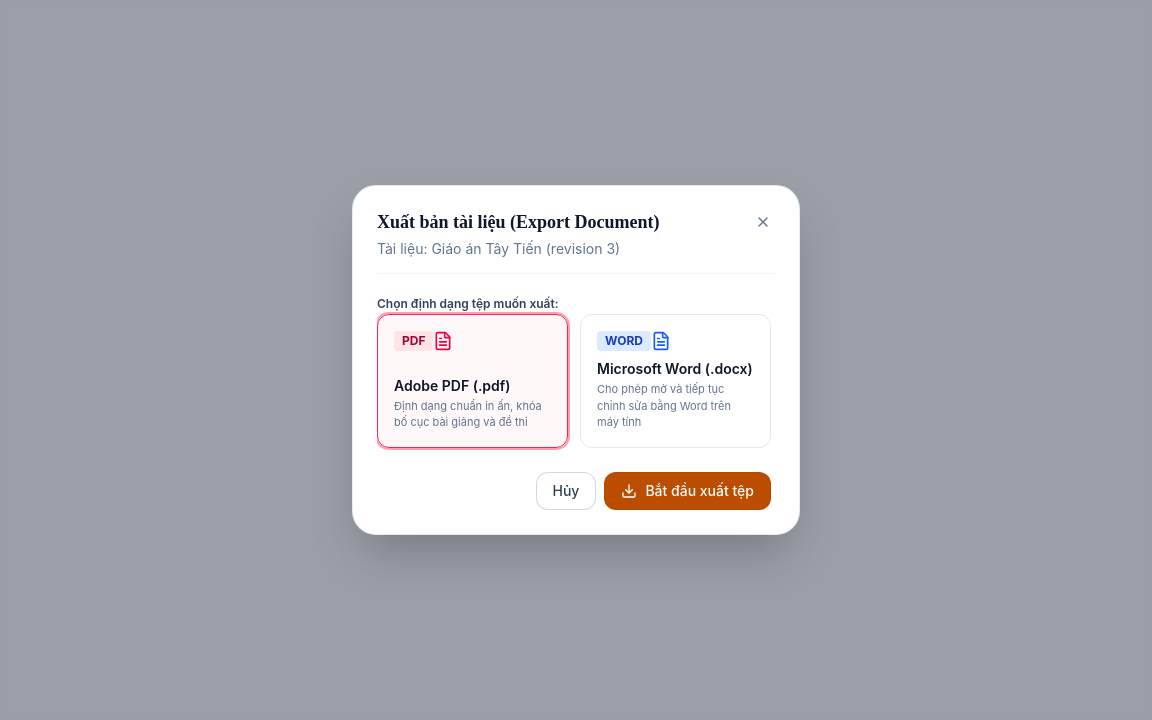
Test: ExportModal › handles asynchronous export with polling until COMPLETED
Note: Select DOCX
Step 1. Click the text "Microsoft Word (.docx)" → (676, 369), box 597,359 -> 754,379
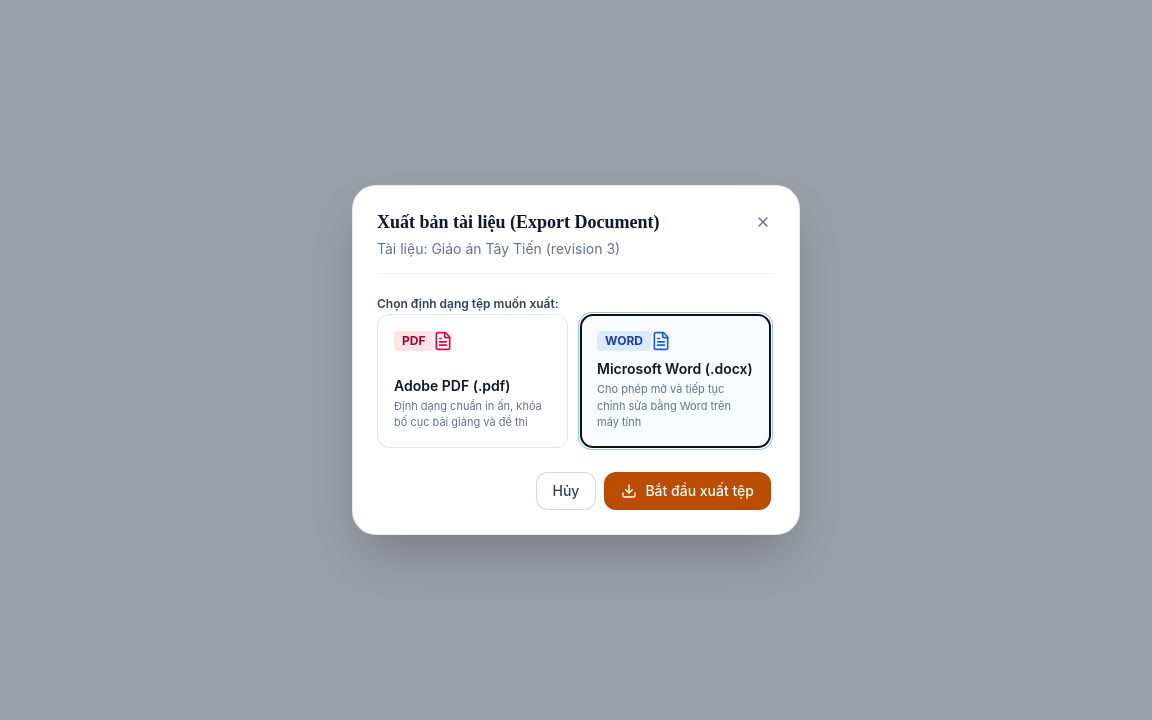
Step 2. Click the button "Bắt đầu xuất tệp" → (688, 491), box 604,472 -> 771,510
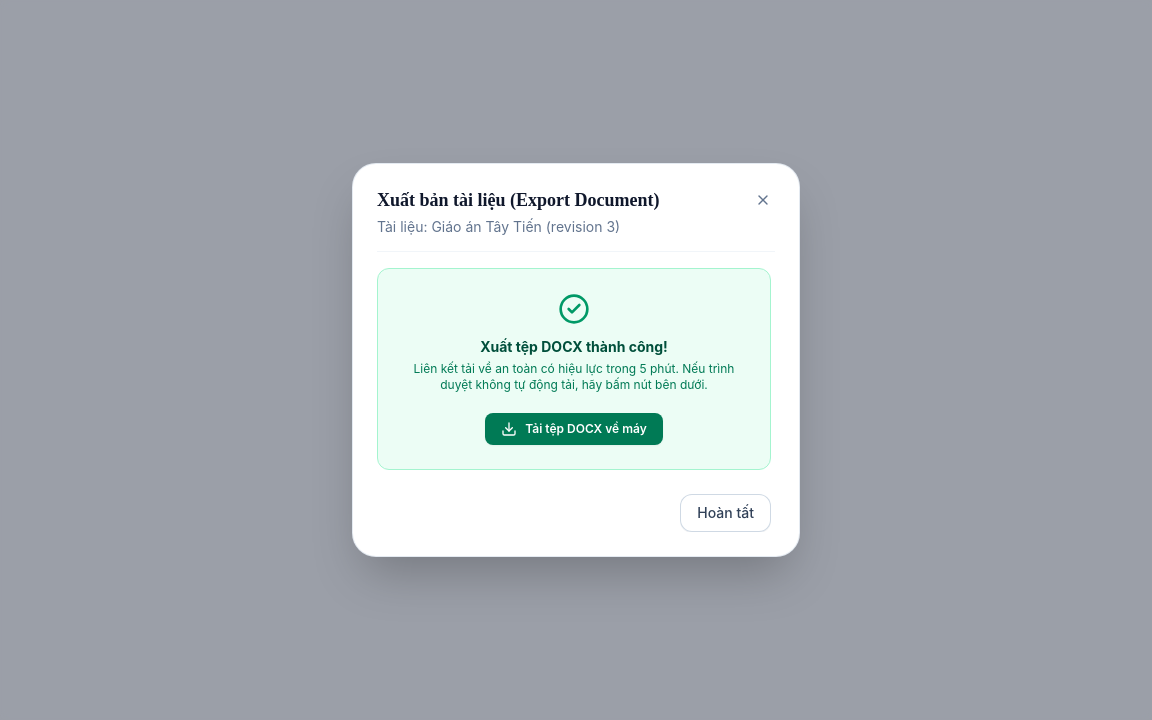
Expected: the text "Xuất tệp DOCX thành công!" is shown, 480,338 -> 668,355
